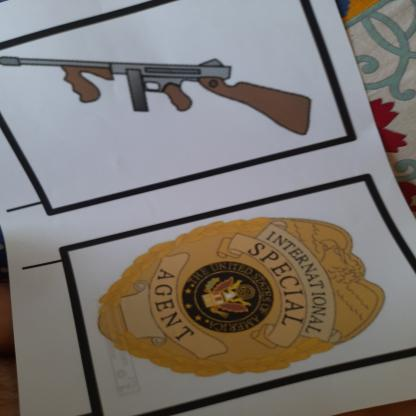Bootlegger: (1, 32, 333, 158)
G-man: (86, 207, 393, 383)
